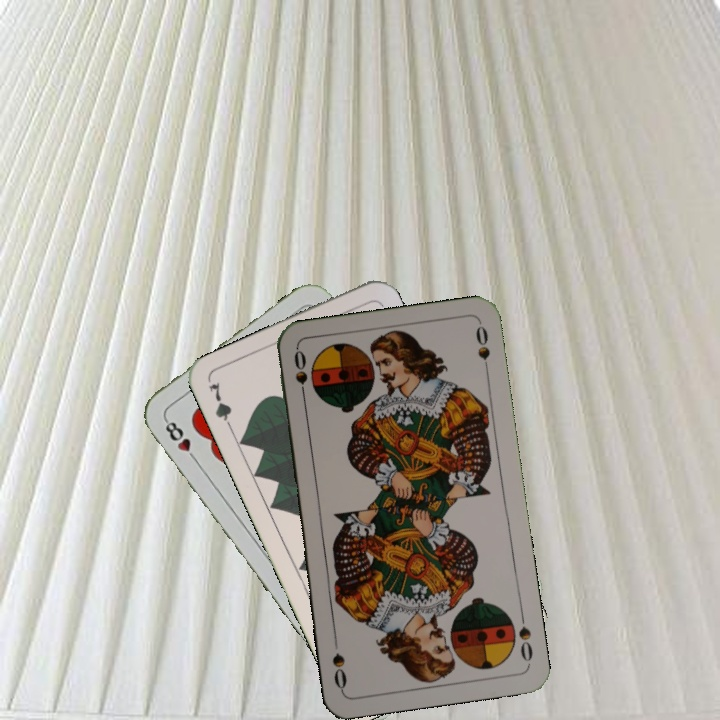G7: (204, 378, 237, 435)
H8: (160, 414, 201, 465)
SO: (290, 346, 311, 405), (515, 608, 535, 667)
